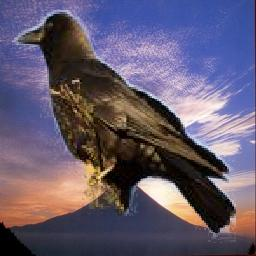Crow: (12, 3, 236, 243)
